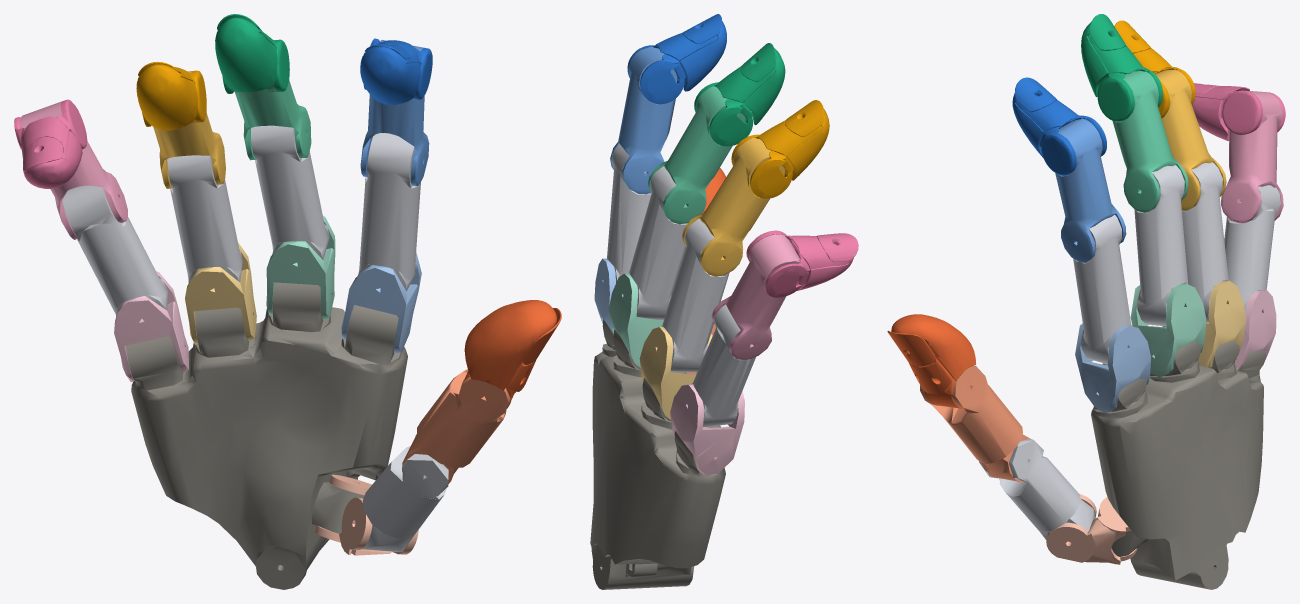
The model's file is wuji.glb.
3 views of the same model, side by side, from view 1: azimuth 30°, elevation 25°; view 2: azimuth 150°, elevation 25°; view 3: azimuth 270°, elevation 25° (orthographic). The views are drawn at different scales.
Parts seen in each view (by area): view 1: hand; view 2: hand; view 3: hand.
Part boxes in pixels (bbox=[...]): hand: bbox=[14, 14, 561, 589]; hand: bbox=[590, 14, 858, 589]; hand: bbox=[887, 14, 1285, 589].
Bounding box in the file's own units: 0.1137 × 0.1818 × 0.124.
